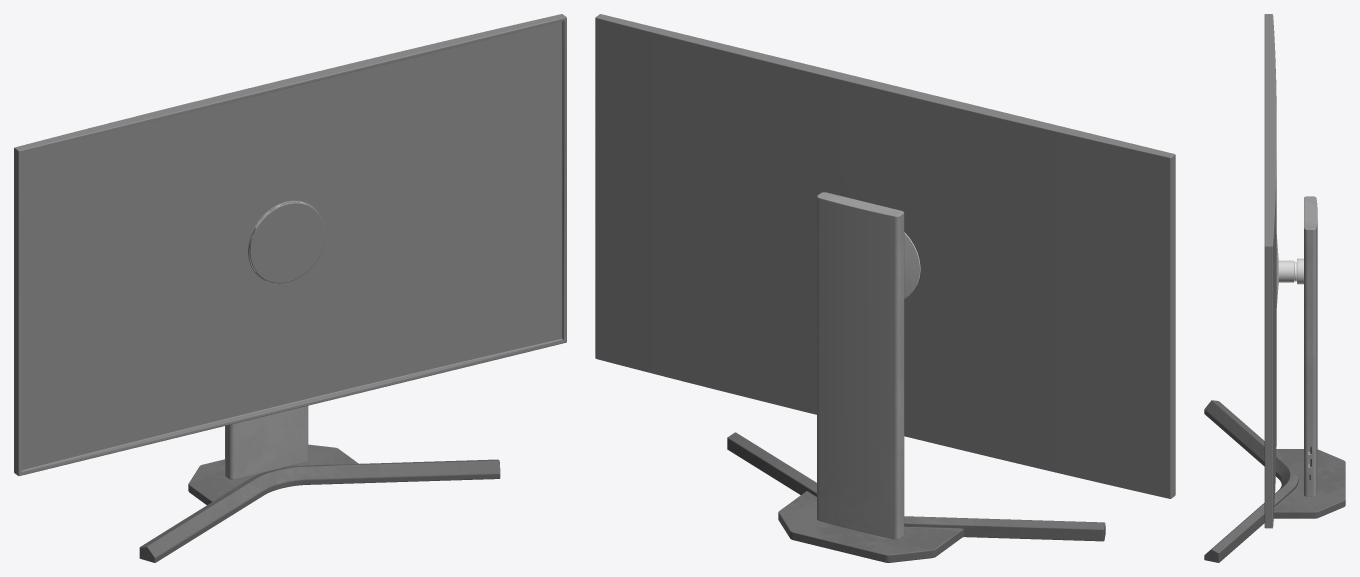
Rendered from monitor.glb.
3 renders of one model, left to right at view 1: azimuth 30°, elevation 25°; view 2: azimuth 150°, elevation 25°; view 3: azimuth 270°, elevation 25°, orthographic. The views are drawn at different scales.
Visible parts, largest first — view 1: Main_low; view 2: Main_low; view 3: Main_low.
Boxes of the visible parts, left/top/right/bottom form: Main_low: left=14, top=14, right=566, bottom=562; Main_low: left=595, top=14, right=1175, bottom=562; Main_low: left=1204, top=14, right=1345, bottom=562.
Size of the model in its own units: 0.7164 by 0.5139 by 0.1842.
1 material, 1 textured.
